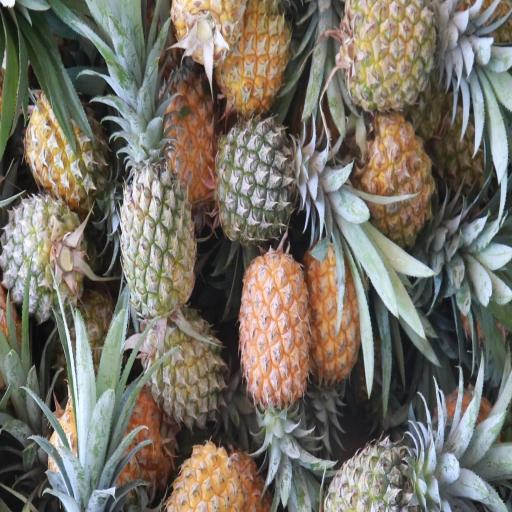------------------------------: (115, 137, 194, 307), (342, 0, 438, 105), (139, 301, 224, 416), (15, 88, 104, 196)
Pineapple - v8 v1: (241, 243, 313, 401), (361, 112, 438, 241), (303, 236, 364, 382), (156, 66, 220, 201), (216, 0, 289, 100)
